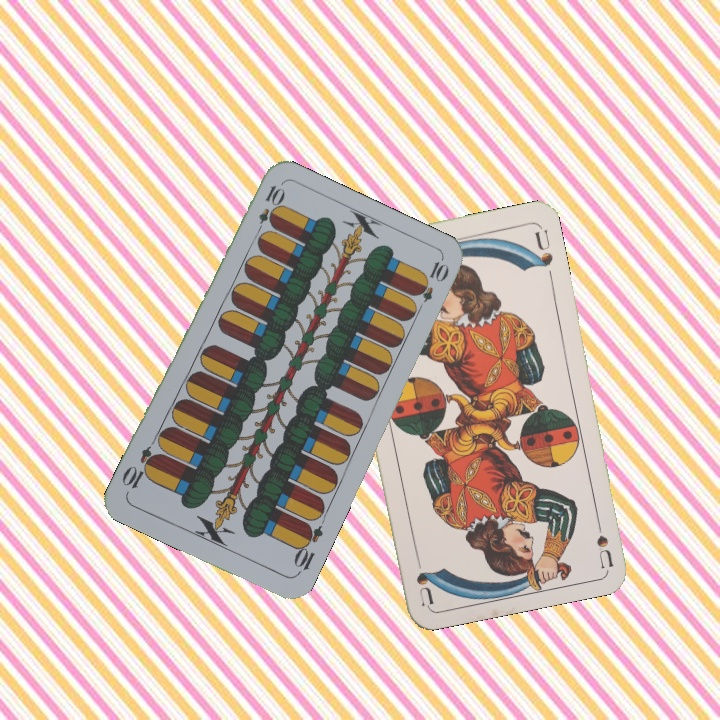E10: (289, 519, 326, 578), (251, 181, 285, 239)
SU: (591, 509, 616, 569)
